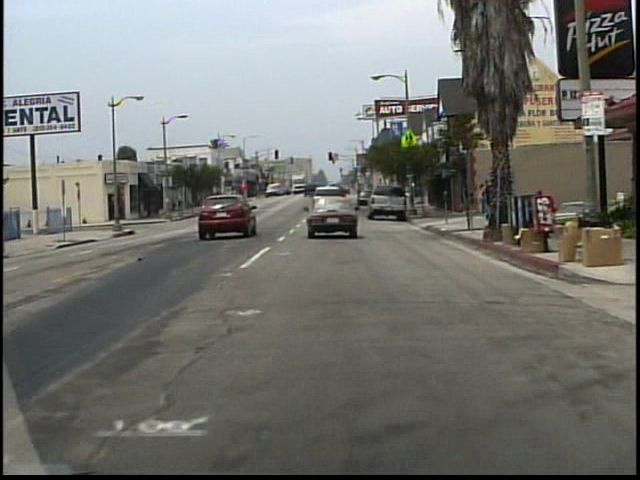person: (485, 179, 496, 215), (482, 183, 483, 213)
